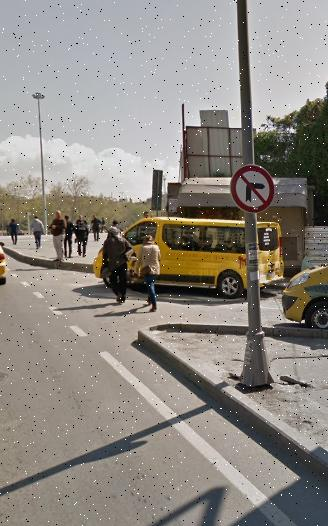rightturnsareforbidden: (230, 165, 276, 212)
